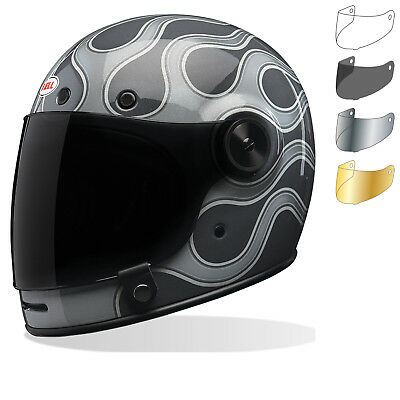with_helmet: (12, 11, 318, 337)
